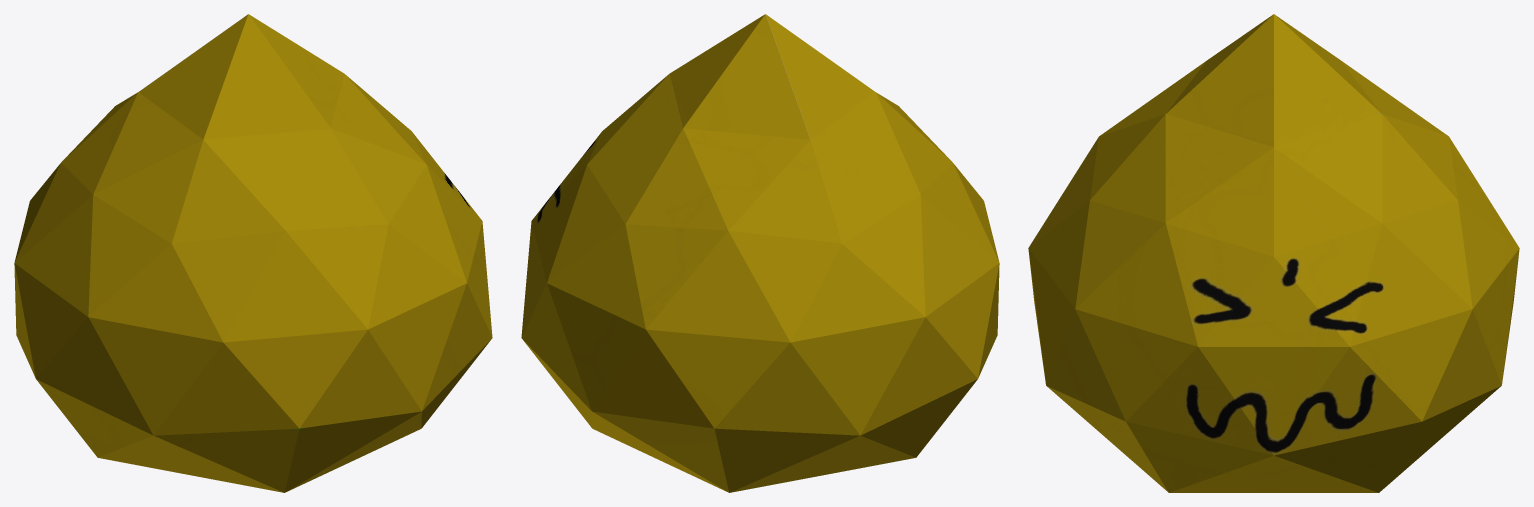
The model's file is BadSlime.fbx.
3 renders of one model, left to right at view 1: azimuth 30°, elevation 25°; view 2: azimuth 150°, elevation 25°; view 3: azimuth 270°, elevation 25°, orthographic. The views are drawn at different scales.
Visible parts, largest first — view 1: Icosphere; view 2: Icosphere; view 3: Icosphere.
Boxes of the visible parts, <box> form: Icosphere: <box>14,14,492,492</box>; Icosphere: <box>521,14,999,492</box>; Icosphere: <box>1028,14,1519,492</box>.
Size of the model in its own units: 213 by 221 by 213.
